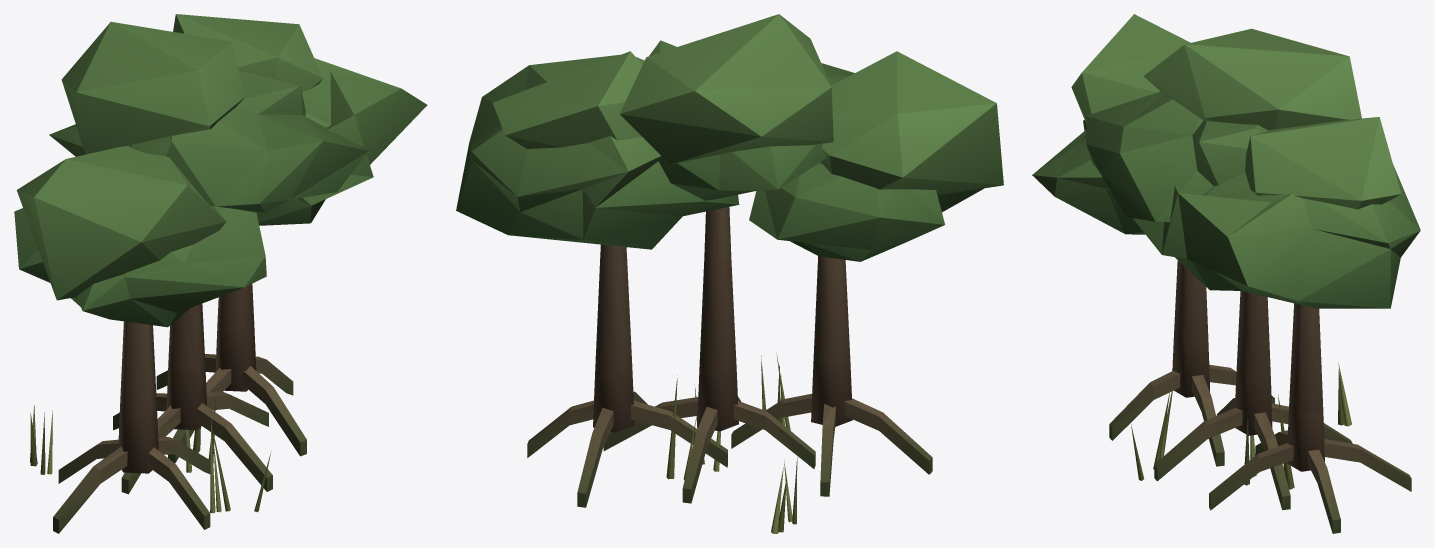
The model's file is mangrove-cluster.glb.
3 renders of one model, left to right at view 1: azimuth 30°, elevation 25°; view 2: azimuth 150°, elevation 25°; view 3: azimuth 270°, elevation 25°, orthographic. The views are drawn at different scales.
Parts seen in each view (by area): view 1: mangrove_cluster; view 2: mangrove_cluster; view 3: mangrove_cluster.
Boxes of the visible parts, x1,y1,x2,y2 form: mangrove_cluster: (14, 14, 427, 533); mangrove_cluster: (456, 14, 1003, 533); mangrove_cluster: (1032, 14, 1420, 533).
Size of the model in its own units: 4.04 by 3.7 by 3.11.
